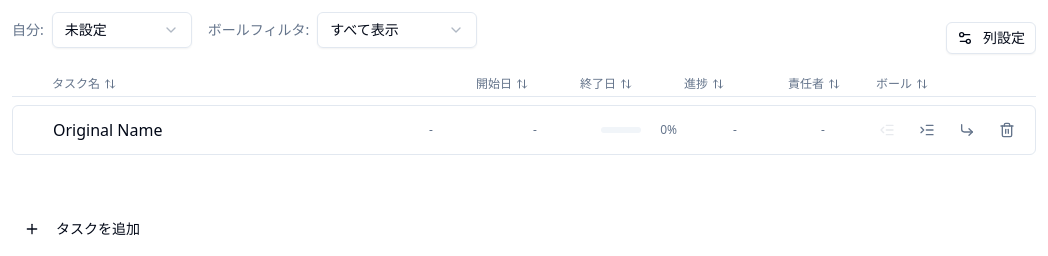
Scenario: TaskList › editing tasks › allows inline editing of task name on double click
Double-click the text "Original Name" at (108, 130), box [53, 119, 162, 141]
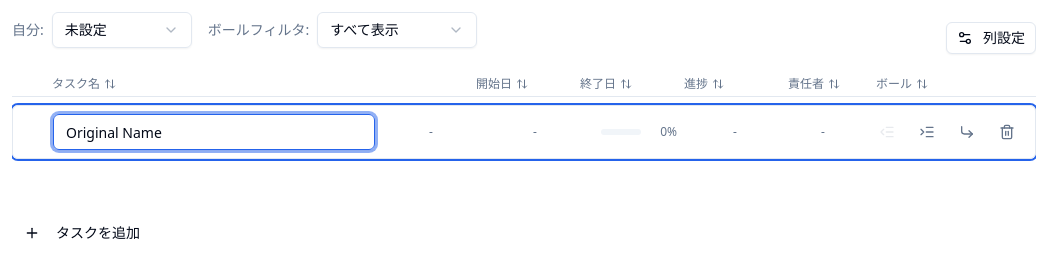
Expected: the field showing "Original Name" is shown, [53, 114, 375, 150]
